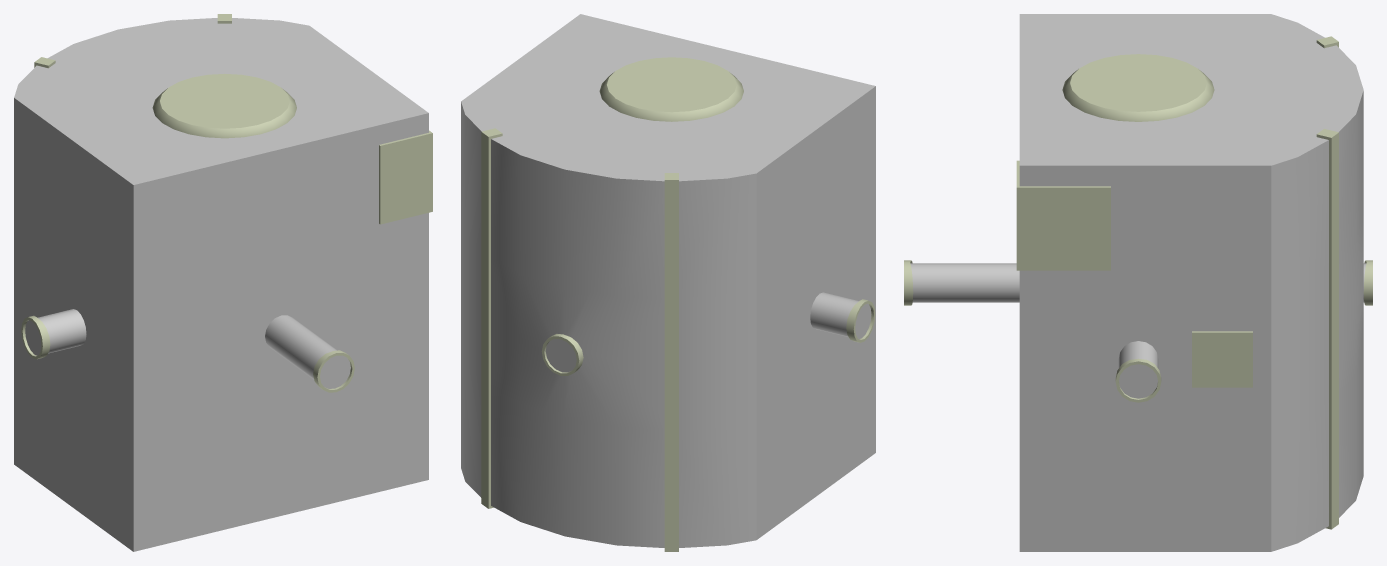
File: vega_crew_s1p5_1_1_interior.obj
3 renders of one model, left to right at view 1: azimuth 30°, elevation 25°; view 2: azimuth 150°, elevation 25°; view 3: azimuth 270°, elevation 25°, orthographic. The views are drawn at different scales.
Parts seen in each view (by area): view 1: vega_crew_s1p5_1_1_interior, vega_crew_s1p5_1_1_interior_mask, vega_crew_s1p5_1_1_interior_windows; view 2: vega_crew_s1p5_1_1_interior, vega_crew_s1p5_1_1_interior_mask, vega_crew_s1p5_1_1_interior_windows; view 3: vega_crew_s1p5_1_1_interior, vega_crew_s1p5_1_1_interior_mask, vega_crew_s1p5_1_1_interior_windows.
Boxes of the visible parts, left/top/right/bottom form: vega_crew_s1p5_1_1_interior: left=14, top=18, right=428, bottom=551; vega_crew_s1p5_1_1_interior_mask: left=21, top=14, right=432, bottom=392; vega_crew_s1p5_1_1_interior_windows: left=25, top=320, right=350, bottom=388; vega_crew_s1p5_1_1_interior: left=461, top=14, right=875, bottom=547; vega_crew_s1p5_1_1_interior_mask: left=481, top=57, right=875, bottom=551; vega_crew_s1p5_1_1_interior_windows: left=545, top=303, right=871, bottom=372; vega_crew_s1p5_1_1_interior: left=910, top=14, right=1366, bottom=551; vega_crew_s1p5_1_1_interior_mask: left=904, top=36, right=1372, bottom=529; vega_crew_s1p5_1_1_interior_windows: left=1119, top=364, right=1157, bottom=398.
Bounding box in the file's own units: 1.92 × 1.81 × 1.92.
